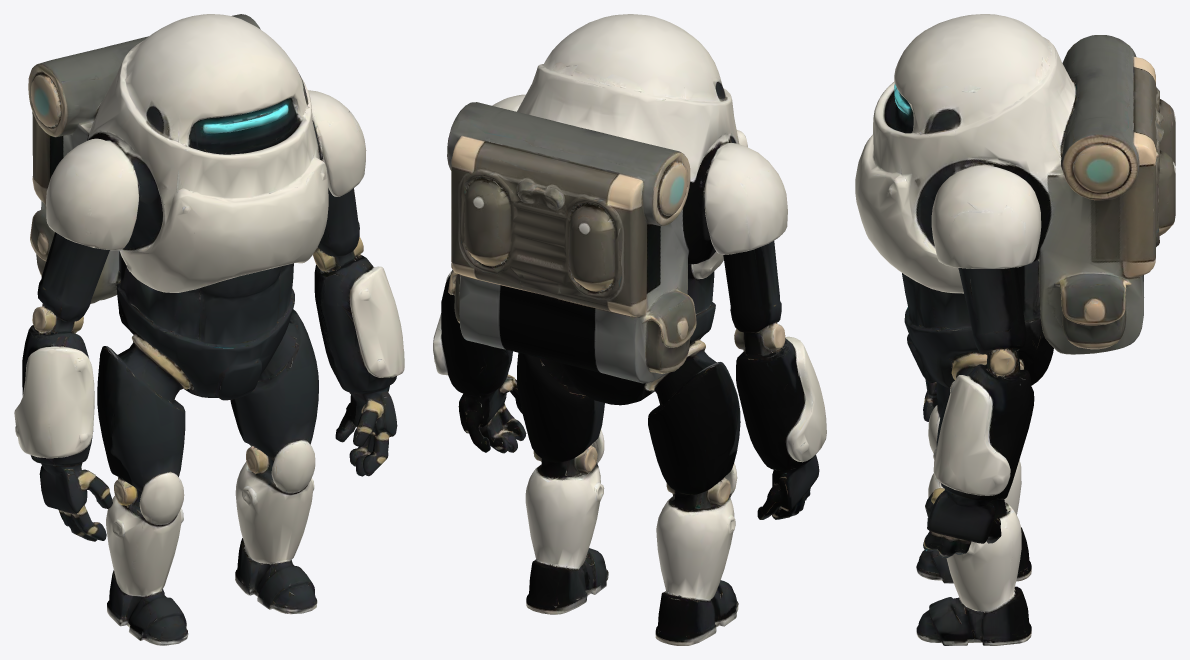
The model's file is hatcher-hatchling-operator.glb.
The picture shows the model from 3 angles, left to right: view 1: azimuth 30°, elevation 25°; view 2: azimuth 150°, elevation 25°; view 3: azimuth 270°, elevation 25°; orthographic projection.
Parts seen in each view (by area): view 1: Mesh_0; view 2: Mesh_0; view 3: Mesh_0.
Part boxes in pixels (<box>): Mesh_0: <box>14,14,404,645</box>; Mesh_0: <box>433,14,826,645</box>; Mesh_0: <box>855,14,1175,645</box>.
Bounding box in the file's own units: 1.27 × 1.91 × 0.9531.
Materials: 1 (1 with a texture image).
